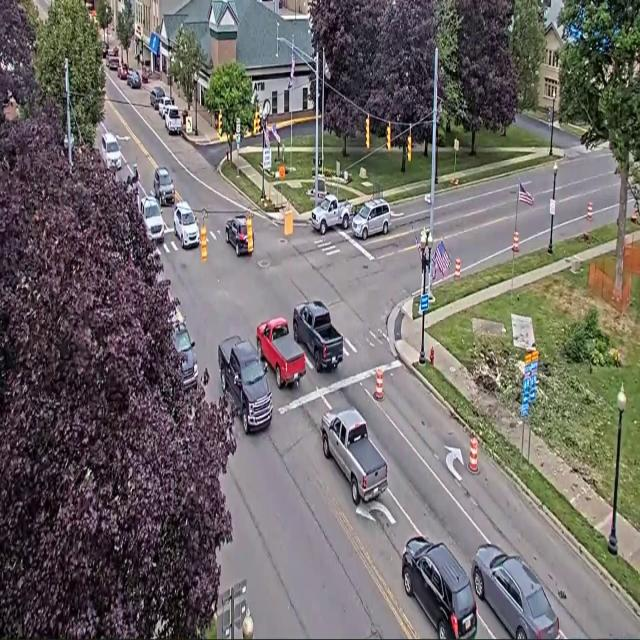car: (472, 544, 559, 639), (402, 536, 477, 639), (174, 315, 197, 388), (352, 200, 390, 240), (174, 201, 199, 248), (140, 197, 164, 242), (225, 216, 250, 255), (101, 132, 121, 170), (154, 168, 174, 205), (165, 106, 181, 134), (158, 96, 173, 119), (150, 87, 164, 110), (127, 71, 141, 88), (107, 52, 119, 70), (117, 62, 129, 80), (141, 67, 149, 83), (102, 41, 108, 58)
traffic signal: (246, 215, 254, 254), (200, 224, 207, 262), (386, 123, 392, 151), (253, 112, 259, 135), (407, 133, 411, 161), (218, 111, 222, 136), (366, 116, 369, 149)
truck: (321, 408, 387, 504), (218, 336, 272, 433), (293, 301, 343, 372), (257, 318, 305, 388), (173, 313, 197, 388), (311, 194, 352, 234)
